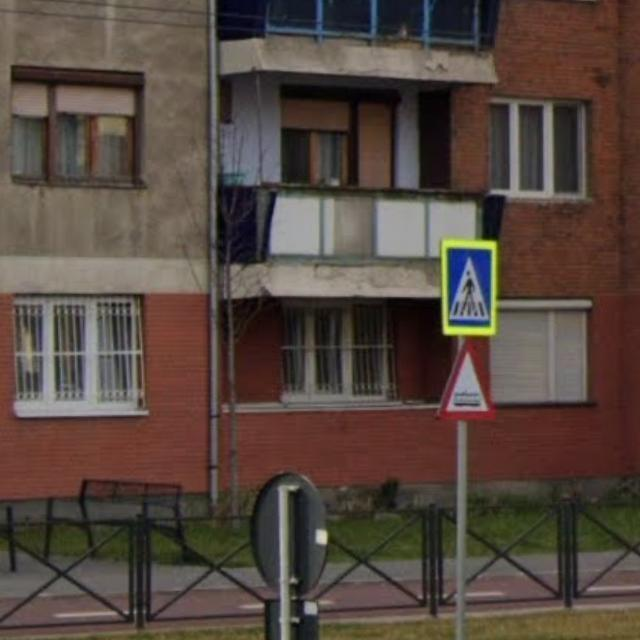info_crosswalk: (439, 239, 500, 337)
